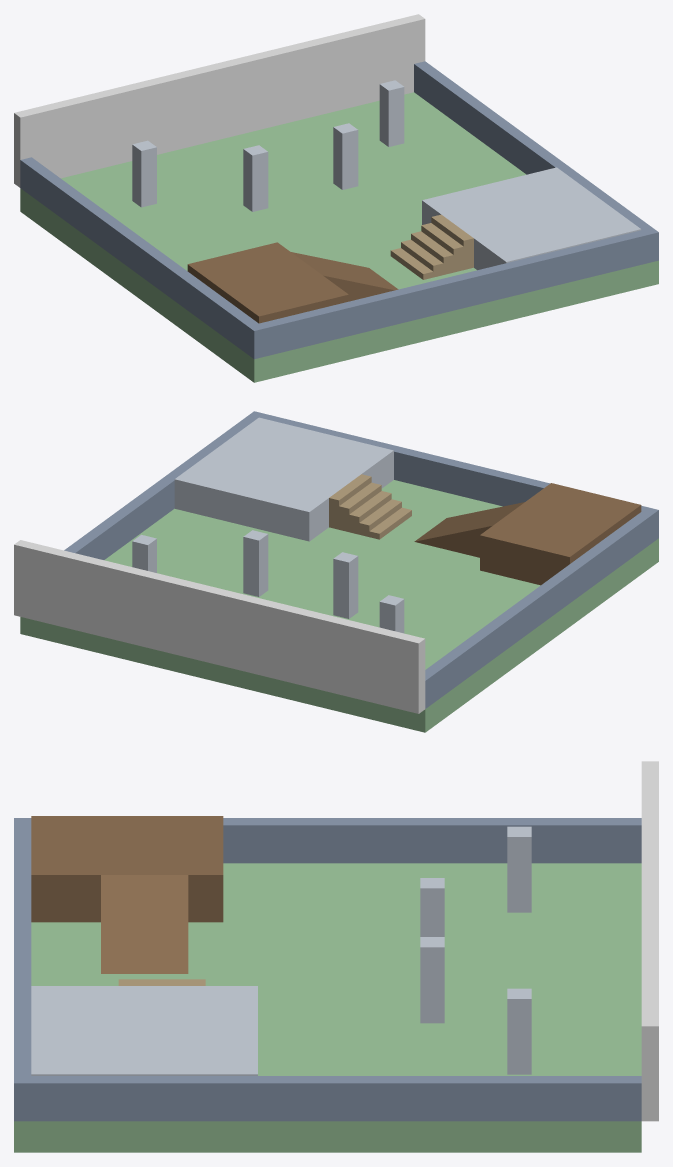
The model's file is stage.glb.
3 renders of one model, top to bottom at view 1: azimuth 30°, elevation 25°; view 2: azimuth 150°, elevation 25°; view 3: azimuth 270°, elevation 25°, orthographic. The views are drawn at different scales.
Visible parts, largest first — view 1: Ground, FenceFront, WallBack, Terrace, WallLeft, HighDeck, WallRight, Ramp, Pillar2.0_3.0, Pillar-2.0_3.0, Pillar5.5_5.5, Pillar-5.5_5.5 (+5 smaller); view 2: Ground, FenceFront, Terrace, HighDeck, WallLeft, WallBack, WallRight, Ramp, Pillar-2.0_3.0, Pillar2.0_3.0, Pillar-5.5_5.5, Pillar5.5_5.5 (+5 smaller); view 3: Ground, WallRight, Terrace, WallLeft, HighDeck, Ramp, FenceFront, WallBack, Pillar2.0_3.0, Pillar-5.5_5.5, Pillar5.5_5.5, Pillar-2.0_3.0 (+1 smaller).
Boxes of the visible parts, box(x1,y1,x2,y2) form: Ground: box(20, 92, 658, 382); FenceFront: box(14, 14, 425, 187); WallBack: box(247, 227, 658, 359); Terrace: box(422, 167, 641, 270); WallLeft: box(20, 157, 258, 354); HighDeck: box(187, 242, 348, 323); WallRight: box(414, 61, 651, 230); Ramp: box(291, 252, 398, 301); Pillar2.0_3.0: box(333, 123, 358, 189); Pillar-2.0_3.0: box(243, 145, 268, 211); Pillar5.5_5.5: box(379, 80, 404, 146); Pillar-5.5_5.5: box(132, 140, 156, 207); Ground: box(20, 480, 658, 732); FenceFront: box(14, 540, 425, 713); Terrace: box(174, 417, 393, 541); HighDeck: box(480, 483, 641, 585); WallLeft: box(425, 512, 652, 708); WallBack: box(248, 411, 658, 542); WallRight: box(64, 416, 257, 559); Ramp: box(414, 502, 524, 557); Pillar-2.0_3.0: box(333, 552, 358, 618); Pillar2.0_3.0: box(243, 530, 268, 596); Pillar-5.5_5.5: box(379, 595, 404, 633); Pillar5.5_5.5: box(132, 534, 156, 572); Ground: box(14, 863, 641, 1152); WallRight: box(31, 1076, 641, 1121); Terrace: box(31, 986, 257, 1075); WallLeft: box(223, 818, 641, 863); HighDeck: box(31, 816, 223, 922); Ramp: box(101, 875, 188, 973); FenceFront: box(641, 761, 658, 1121); WallBack: box(14, 818, 31, 1121); Pillar2.0_3.0: box(420, 937, 444, 1023); Pillar-5.5_5.5: box(507, 826, 531, 912); Pillar5.5_5.5: box(507, 988, 531, 1074); Pillar-2.0_3.0: box(420, 878, 444, 936).
Size of the model in its own units: 18 by 4 by 18.5.
